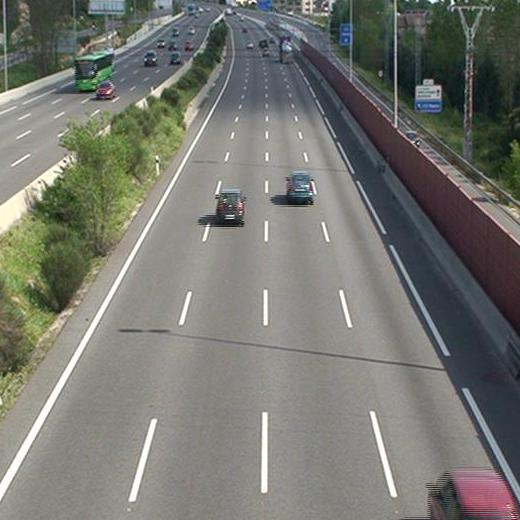car: (284, 171, 315, 204), (215, 191, 245, 224)
tank-truck: (279, 37, 293, 65)
